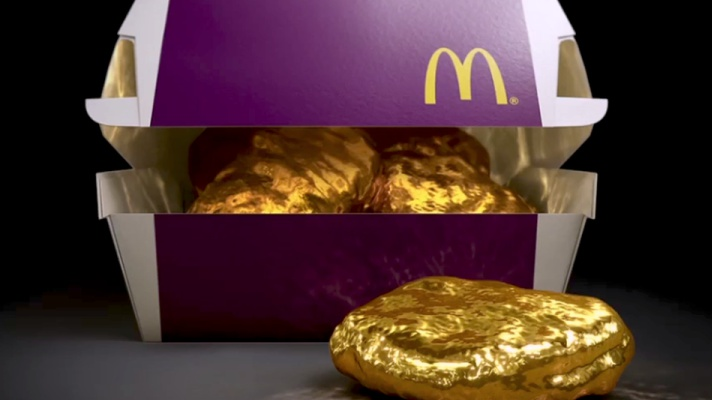mcdonalds: (418, 45, 511, 114)
